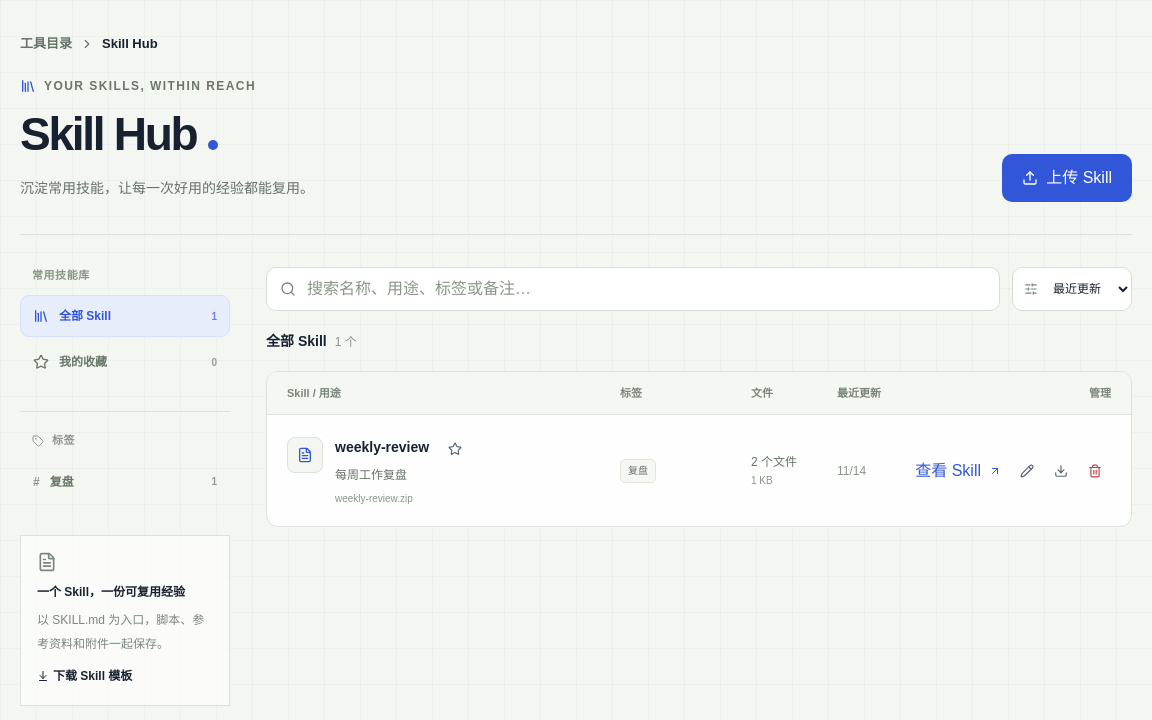
Test: Skill Hub interactions › loads instructions only when requested and displays attached files
Click the button "查看 Skill" at (958, 471), box [907, 455, 1009, 487]
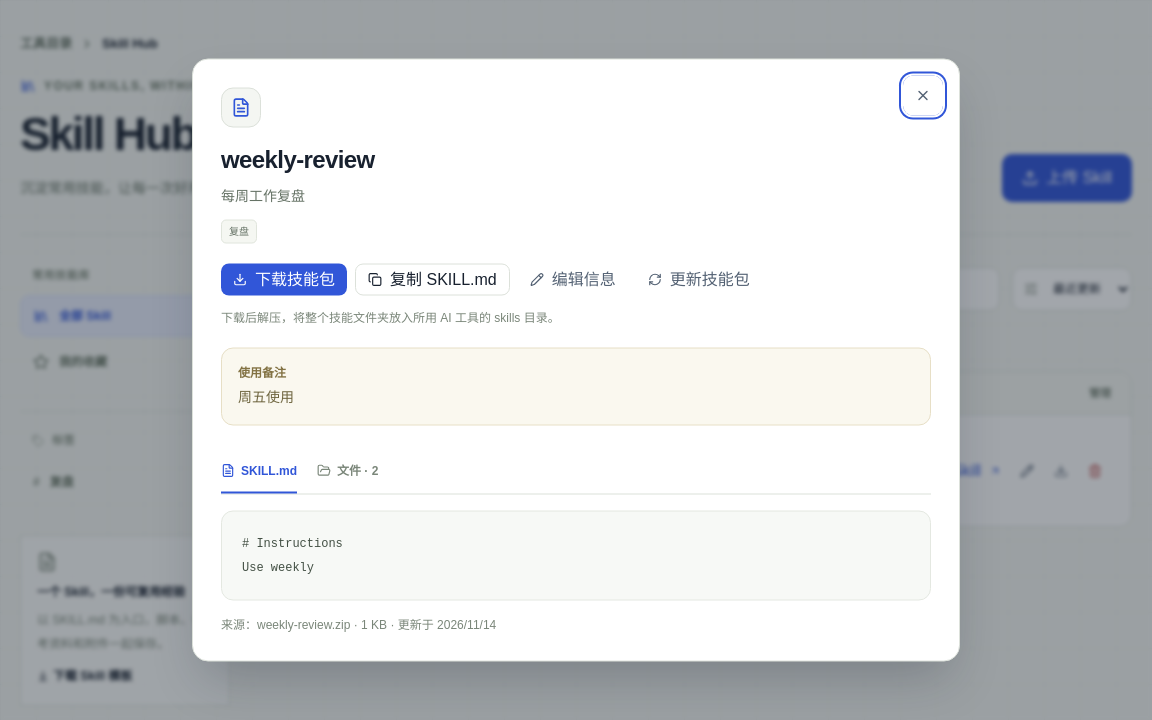
Now the text "# Instructions Use weekly" is shown, box [221, 510, 931, 600]
Click the tab "文件 · 2" at (348, 472), box [317, 450, 378, 494]
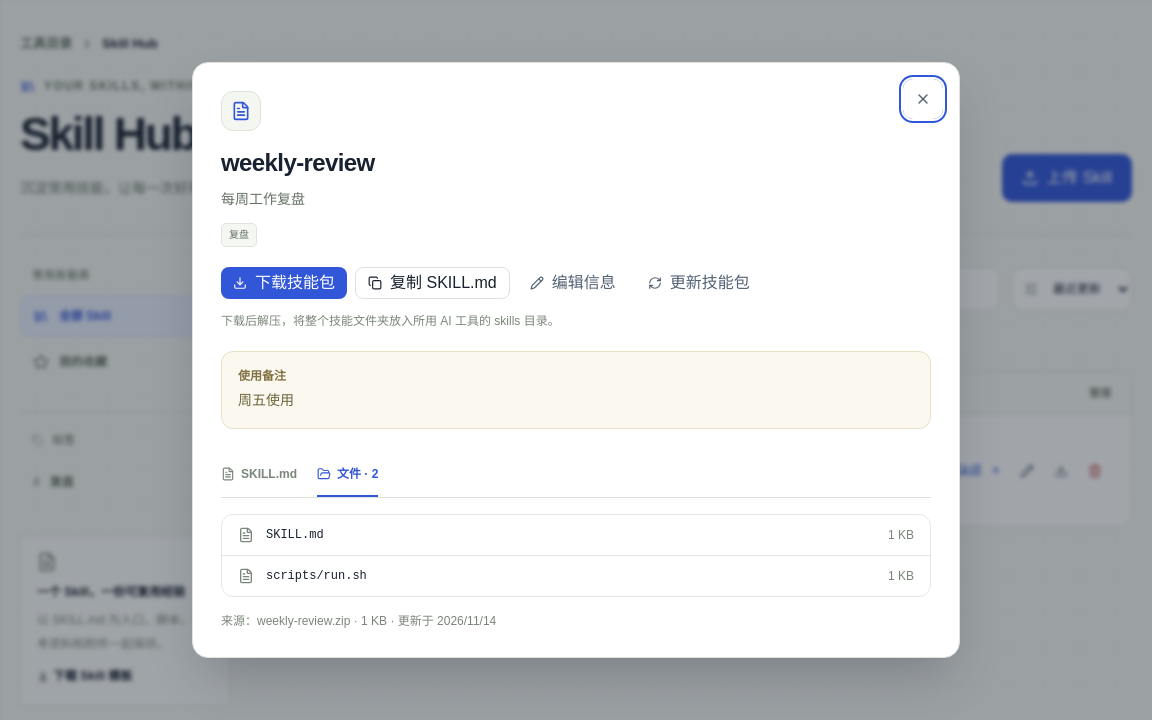
Now the text "scripts/run.sh" is shown, box [266, 569, 367, 583]
Click the button "更新技能包" at (699, 283), box [636, 267, 762, 299]
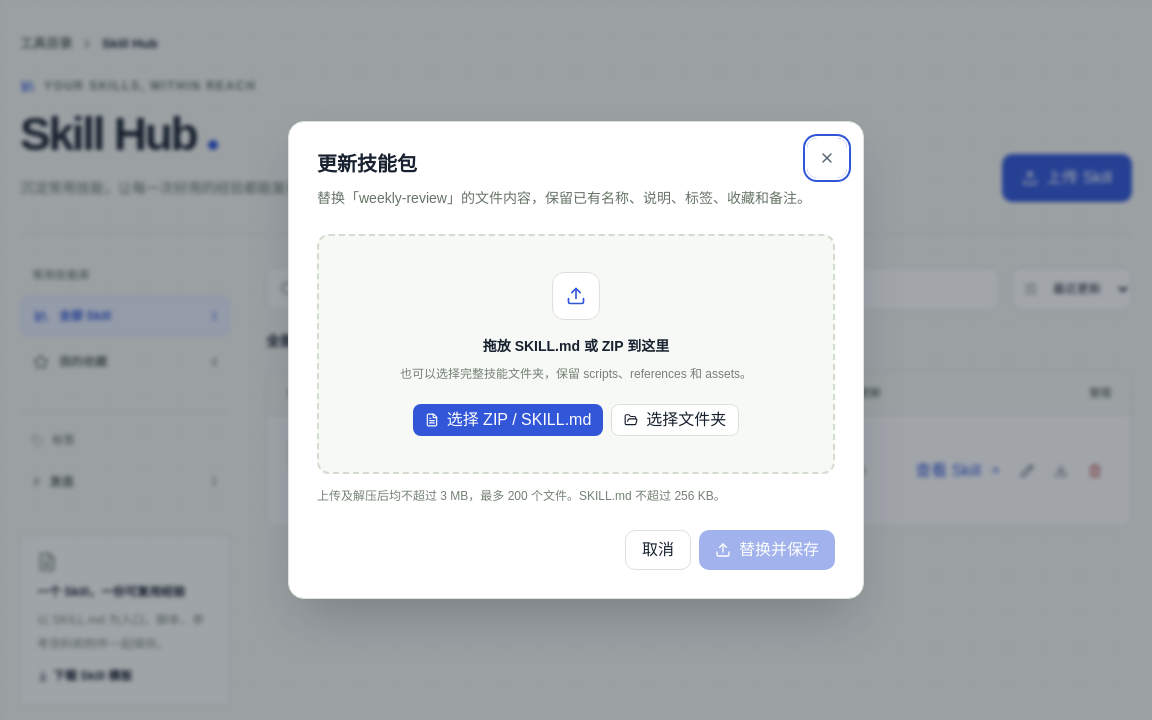
Now the button "替换并保存" is disabled, box [699, 530, 835, 570]
Now the text "替换「weekly-review」的文件内容，保留已有名称、说明、标签、收藏和备注。" is shown, box [317, 186, 835, 210]
